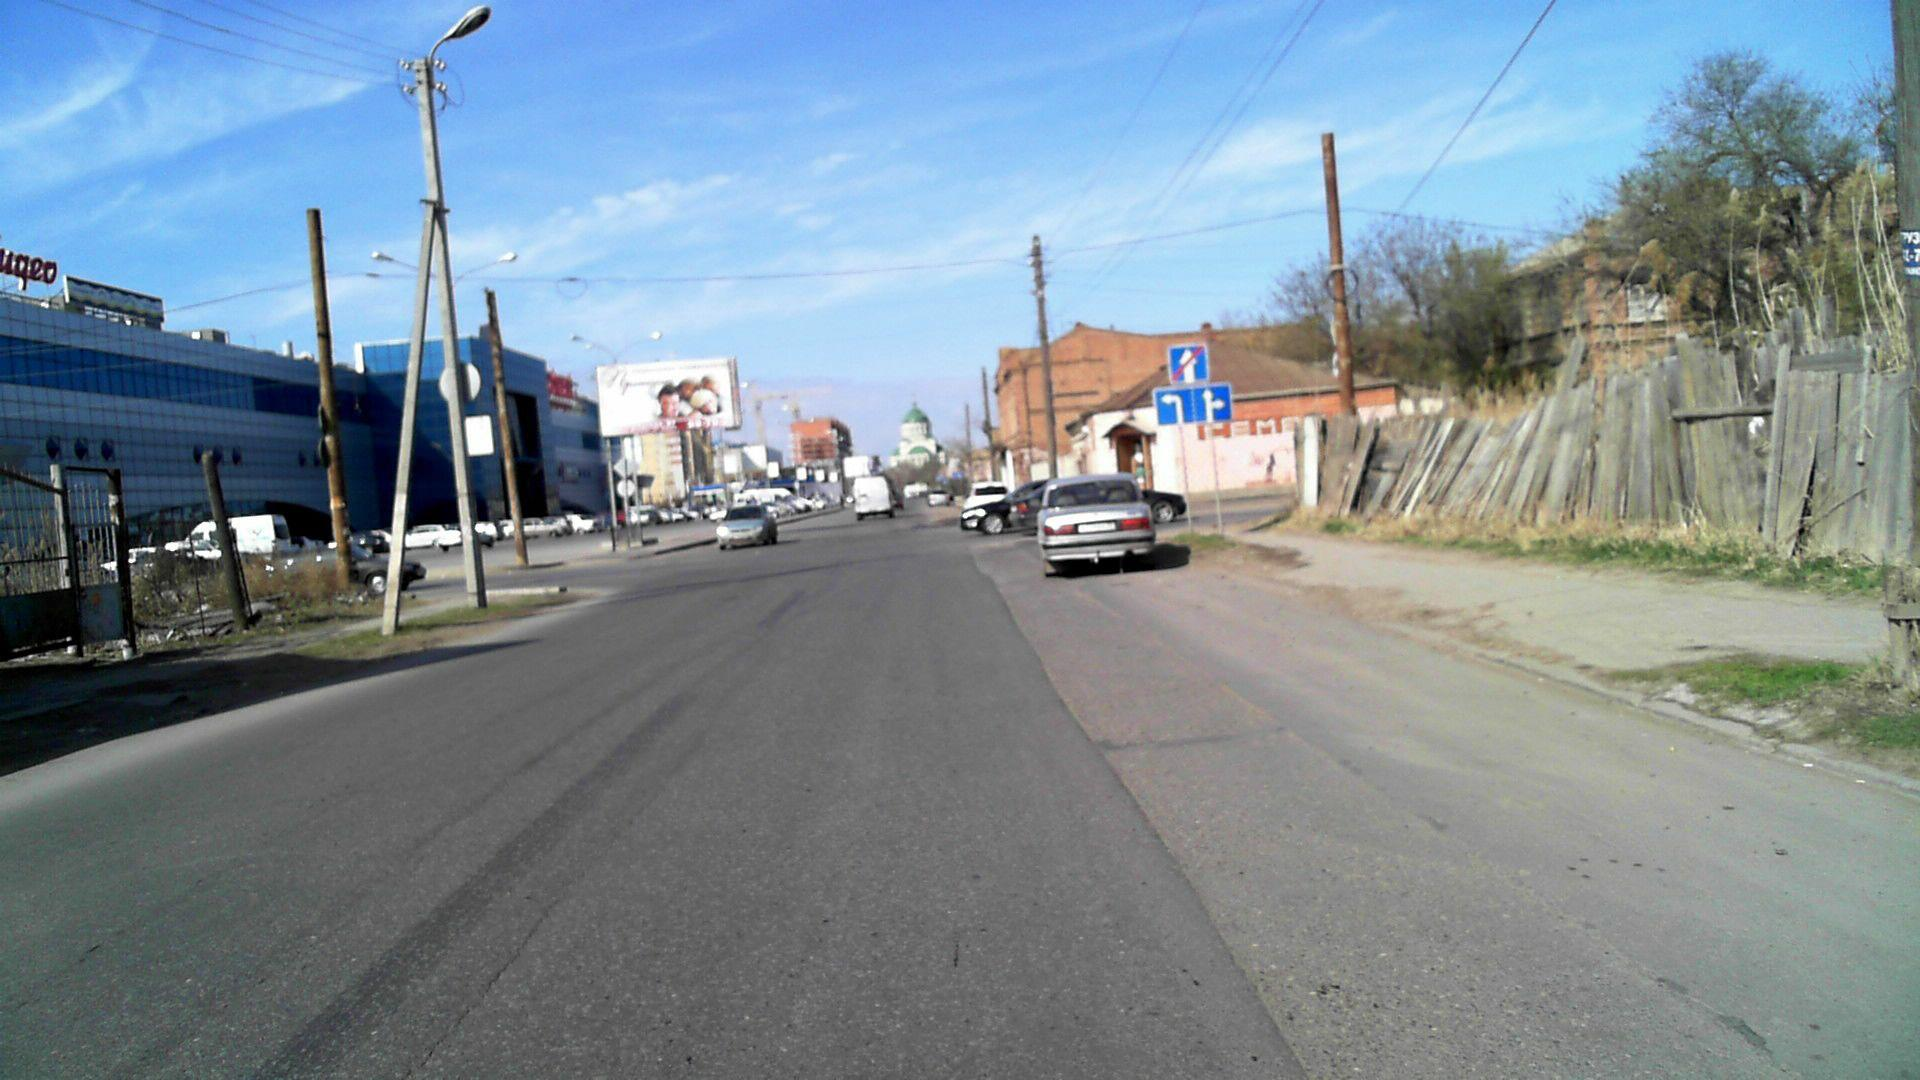5_15_1: (1154, 382, 1230, 425)
5_6: (1164, 342, 1211, 381)
